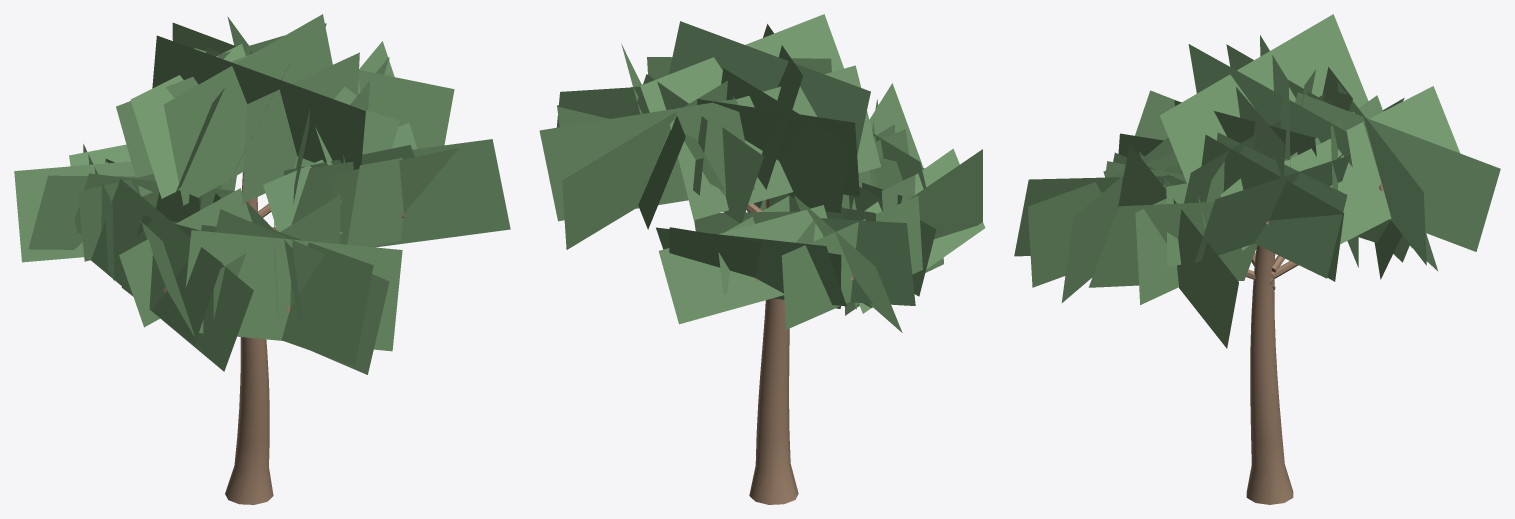
File: Pine_Maritime_B.fbx
The picture shows the model from 3 angles, left to right: view 1: azimuth 30°, elevation 25°; view 2: azimuth 150°, elevation 25°; view 3: azimuth 270°, elevation 25°; orthographic projection.
Parts seen in each view (by area): view 1: Pine_Canopy, Pine_Trunk; view 2: Pine_Canopy, Pine_Trunk; view 3: Pine_Canopy, Pine_Trunk.
Boxes of the visible parts, left/top/right/bottom form: Pine_Canopy: left=14, top=14, right=510, bottom=374; Pine_Trunk: left=225, top=172, right=273, bottom=504; Pine_Canopy: left=539, top=14, right=985, bottom=332; Pine_Trunk: left=749, top=199, right=798, bottom=504; Pine_Canopy: left=1014, top=14, right=1500, bottom=348; Pine_Trunk: left=1246, top=246, right=1293, bottom=504.
Bounding box in the file's own units: 10.12 × 11.47 × 11.15.
